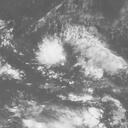cyclone: (34, 35, 67, 67)
